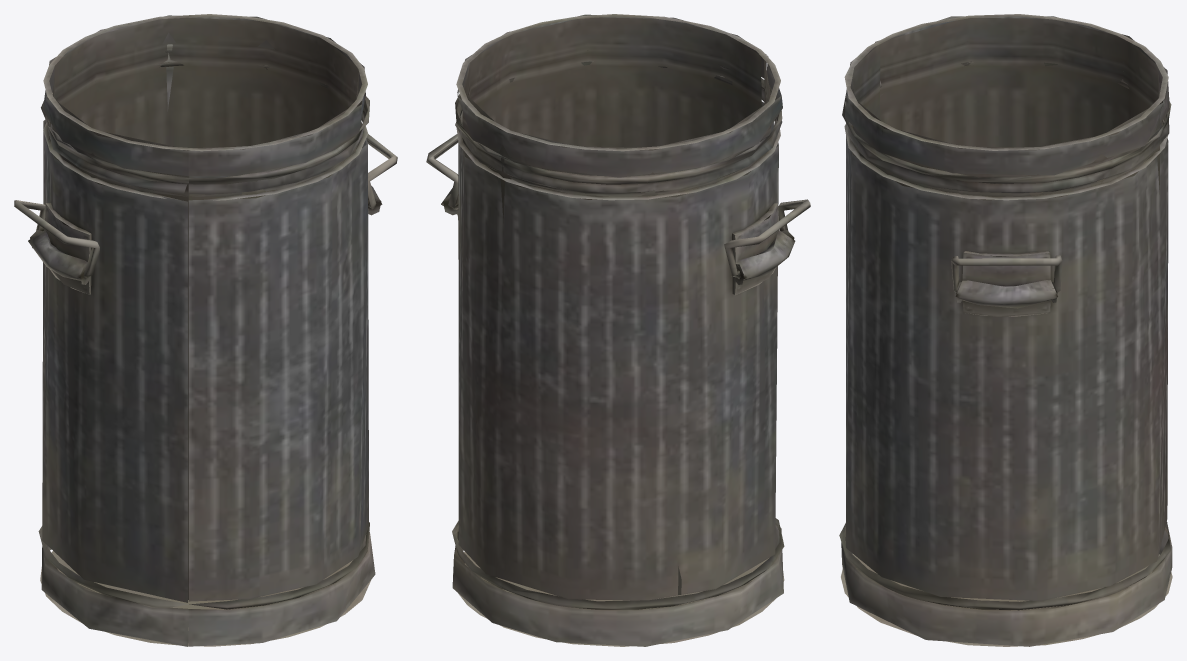
File: prop-trashbin-8cbac49242c7.glb
3 views of the same model, side by side, from view 1: azimuth 30°, elevation 25°; view 2: azimuth 150°, elevation 25°; view 3: azimuth 270°, elevation 25° (orthographic).
Parts seen in each view (by area): view 1: ph_street_metal_trash_bin_part_0, ph_street_metal_trash_bin_part_1, ph_street_metal_trash_bin_part_2; view 2: ph_street_metal_trash_bin_part_0, ph_street_metal_trash_bin_part_1, ph_street_metal_trash_bin_part_2; view 3: ph_street_metal_trash_bin_part_0, ph_street_metal_trash_bin_part_2.
Part boxes in pixels (bbox=[...]): ph_street_metal_trash_bin_part_0: bbox=[28, 14, 382, 646]; ph_street_metal_trash_bin_part_1: bbox=[14, 200, 99, 277]; ph_street_metal_trash_bin_part_2: bbox=[366, 134, 397, 208]; ph_street_metal_trash_bin_part_0: bbox=[441, 14, 795, 646]; ph_street_metal_trash_bin_part_1: bbox=[724, 199, 810, 277]; ph_street_metal_trash_bin_part_2: bbox=[426, 134, 458, 208]; ph_street_metal_trash_bin_part_0: bbox=[839, 14, 1172, 646]; ph_street_metal_trash_bin_part_2: bbox=[951, 255, 1062, 292].
Size of the model in its own units: 0.6758 by 0.94 by 0.5744.
Materials: 1 (1 with a texture image).
